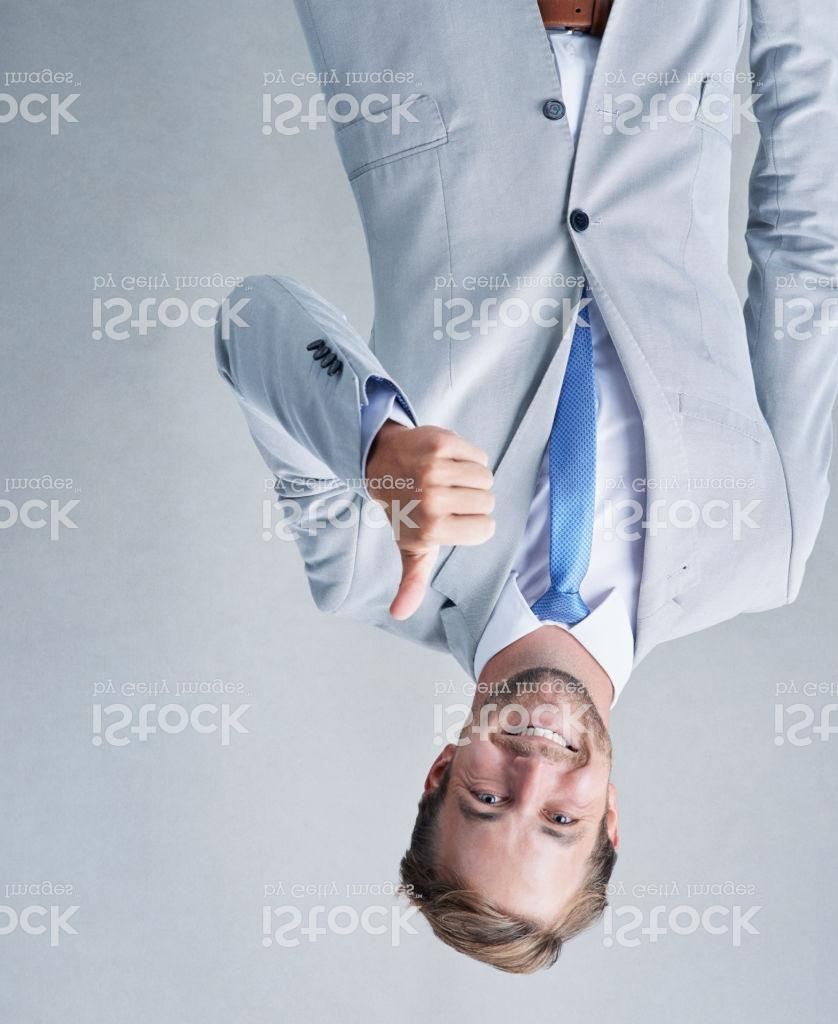thumbsdown: (382, 424, 501, 623)
